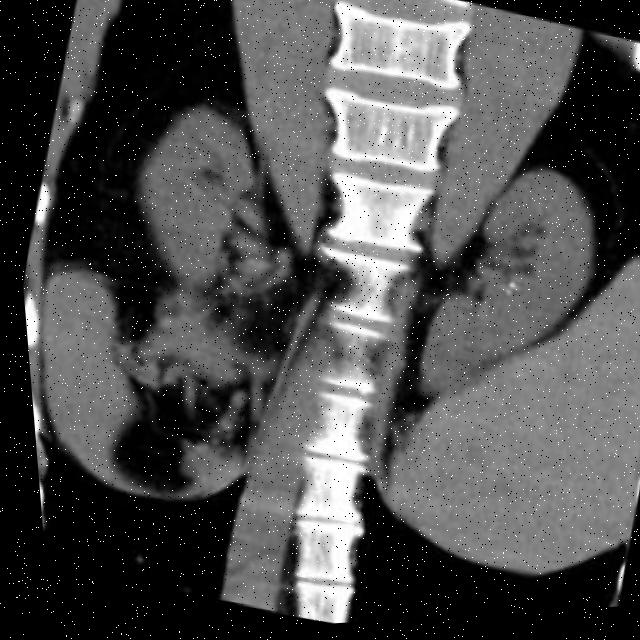Tas_Var: (496, 292, 506, 303), (501, 286, 510, 295)
